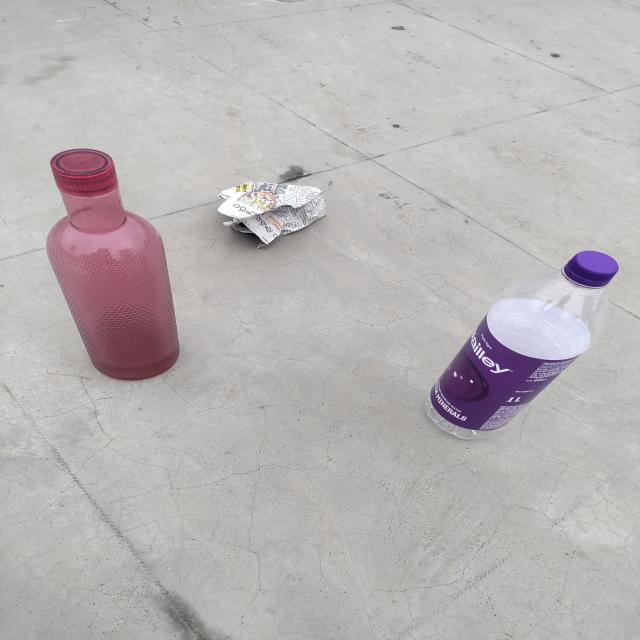paper: (223, 164, 347, 267)
plastic: (421, 212, 631, 476), (17, 146, 217, 406)
